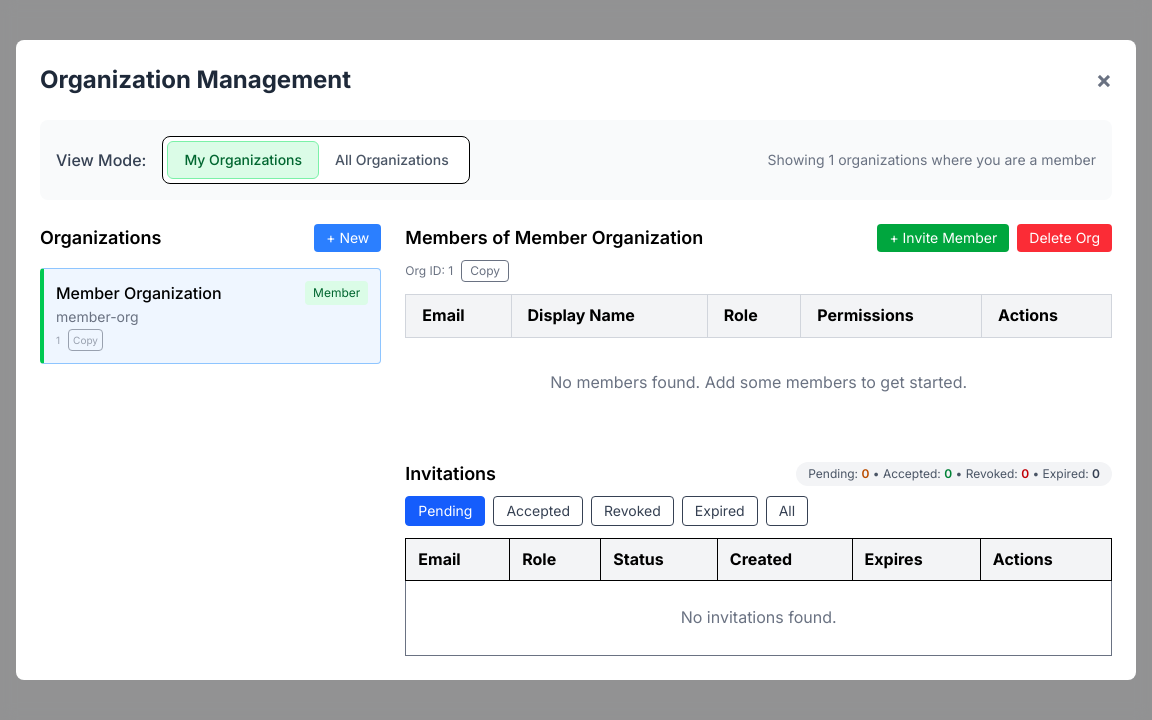
Test: OrganizationManagement › View Mode Toggle › allows direct switch back to member organizations without confirmation
Expected: the heading "Organization Management" is shown, 40,64 -> 351,96
Switch to all organizations first
Click the button "All Organizations" at (392, 160), box 319,141 -> 465,179
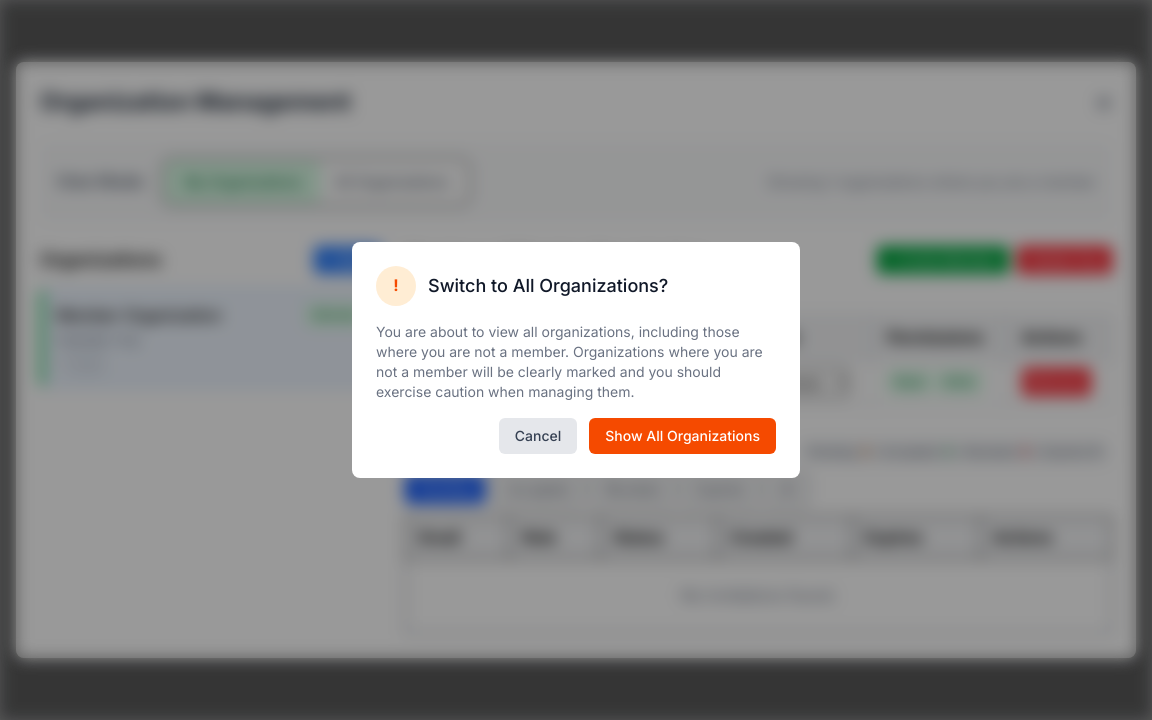
Click the button "Show All Organizations" at (683, 436), box 589,418 -> 776,454
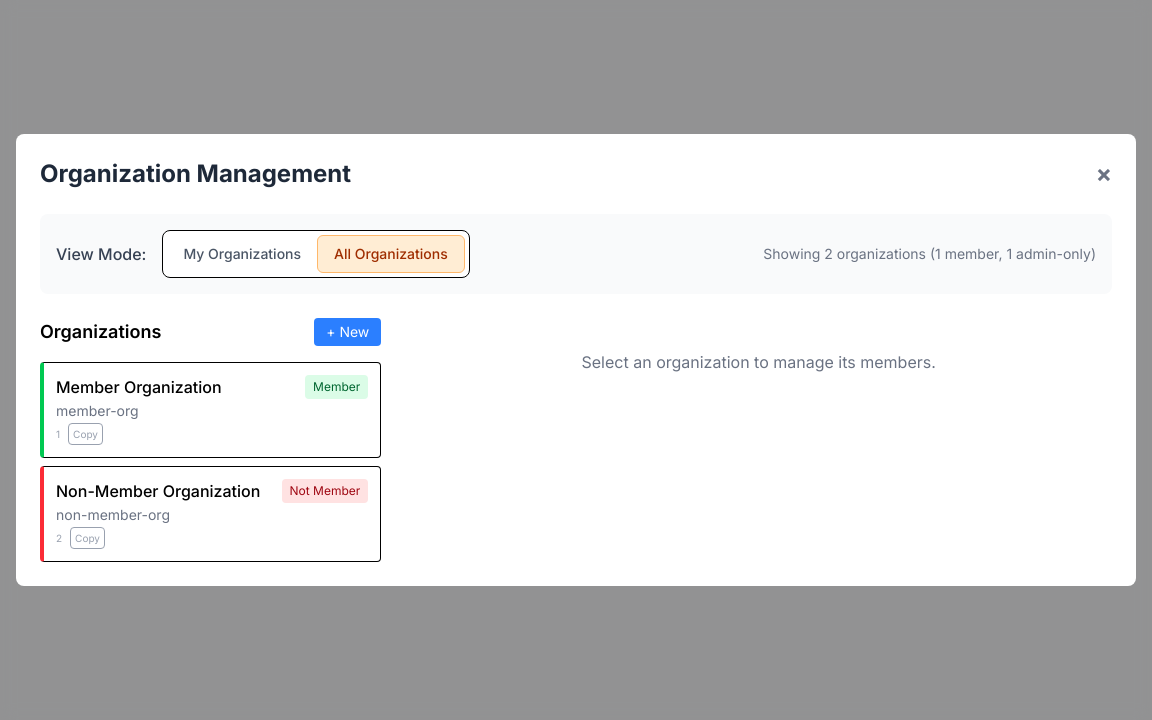
Expected: the button "All Organizations" has class "bg-orange-100", 317,235 -> 465,273
Switch back to member organizations
Click the button "My Organizations" at (242, 254), box 168,235 -> 317,273
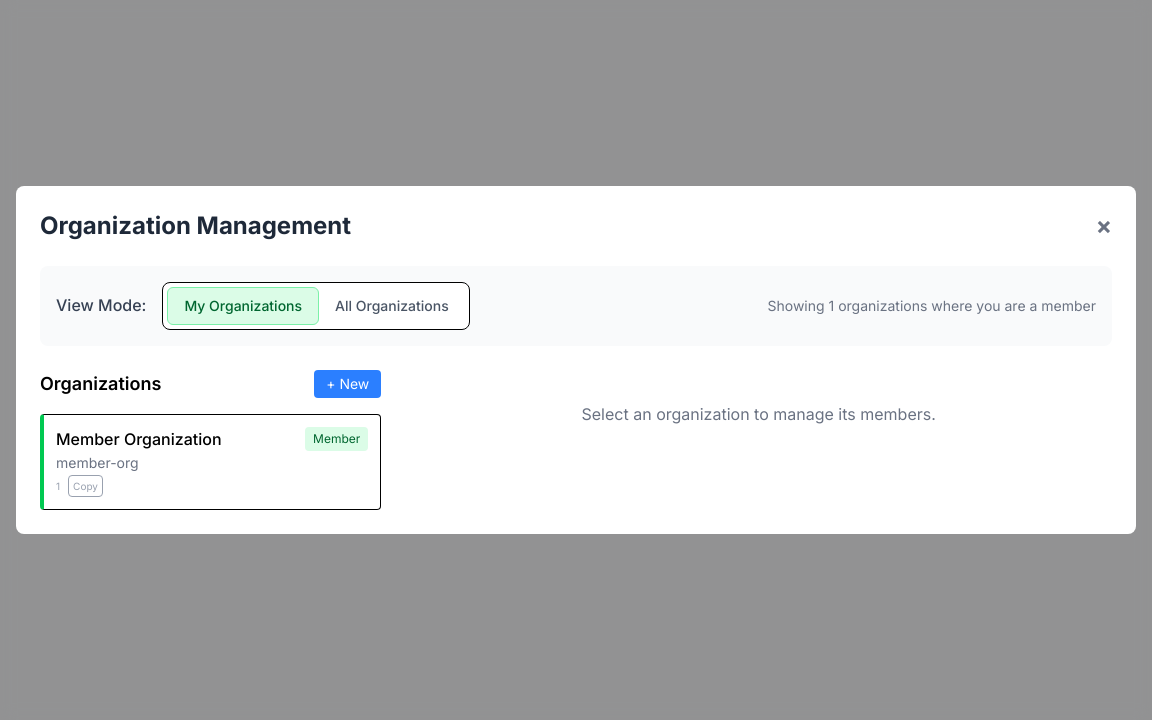
Expected: the text "Non-Member Organization" is gone
